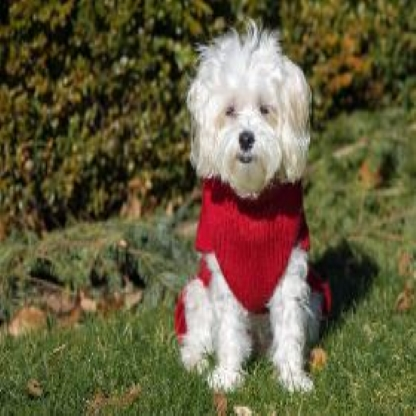maltese: (167, 17, 335, 398)
